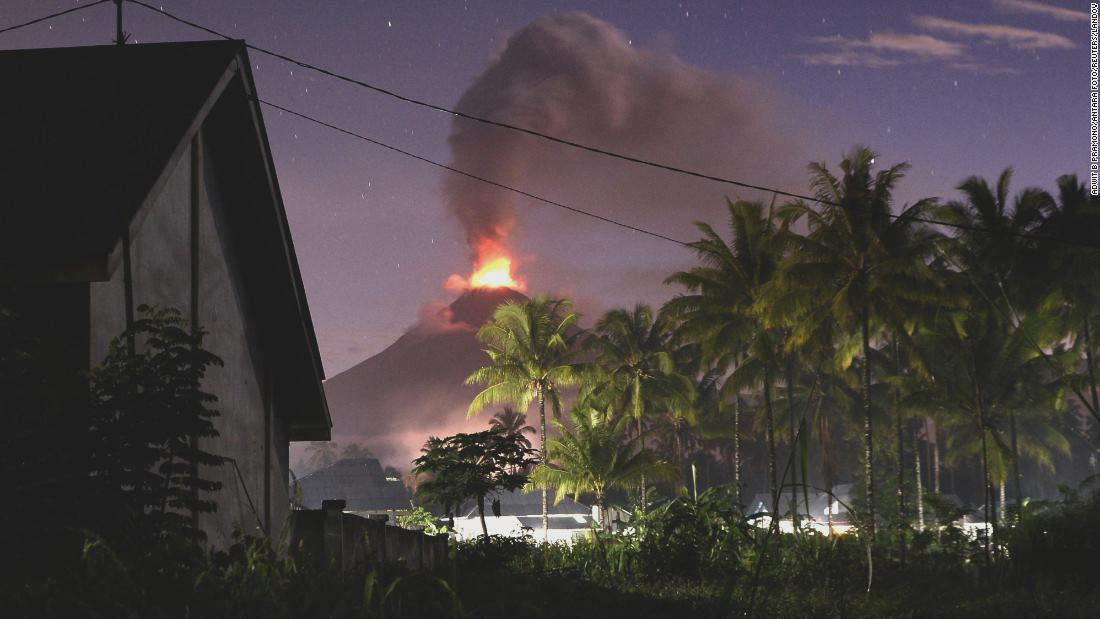fire: (449, 253, 530, 296)
